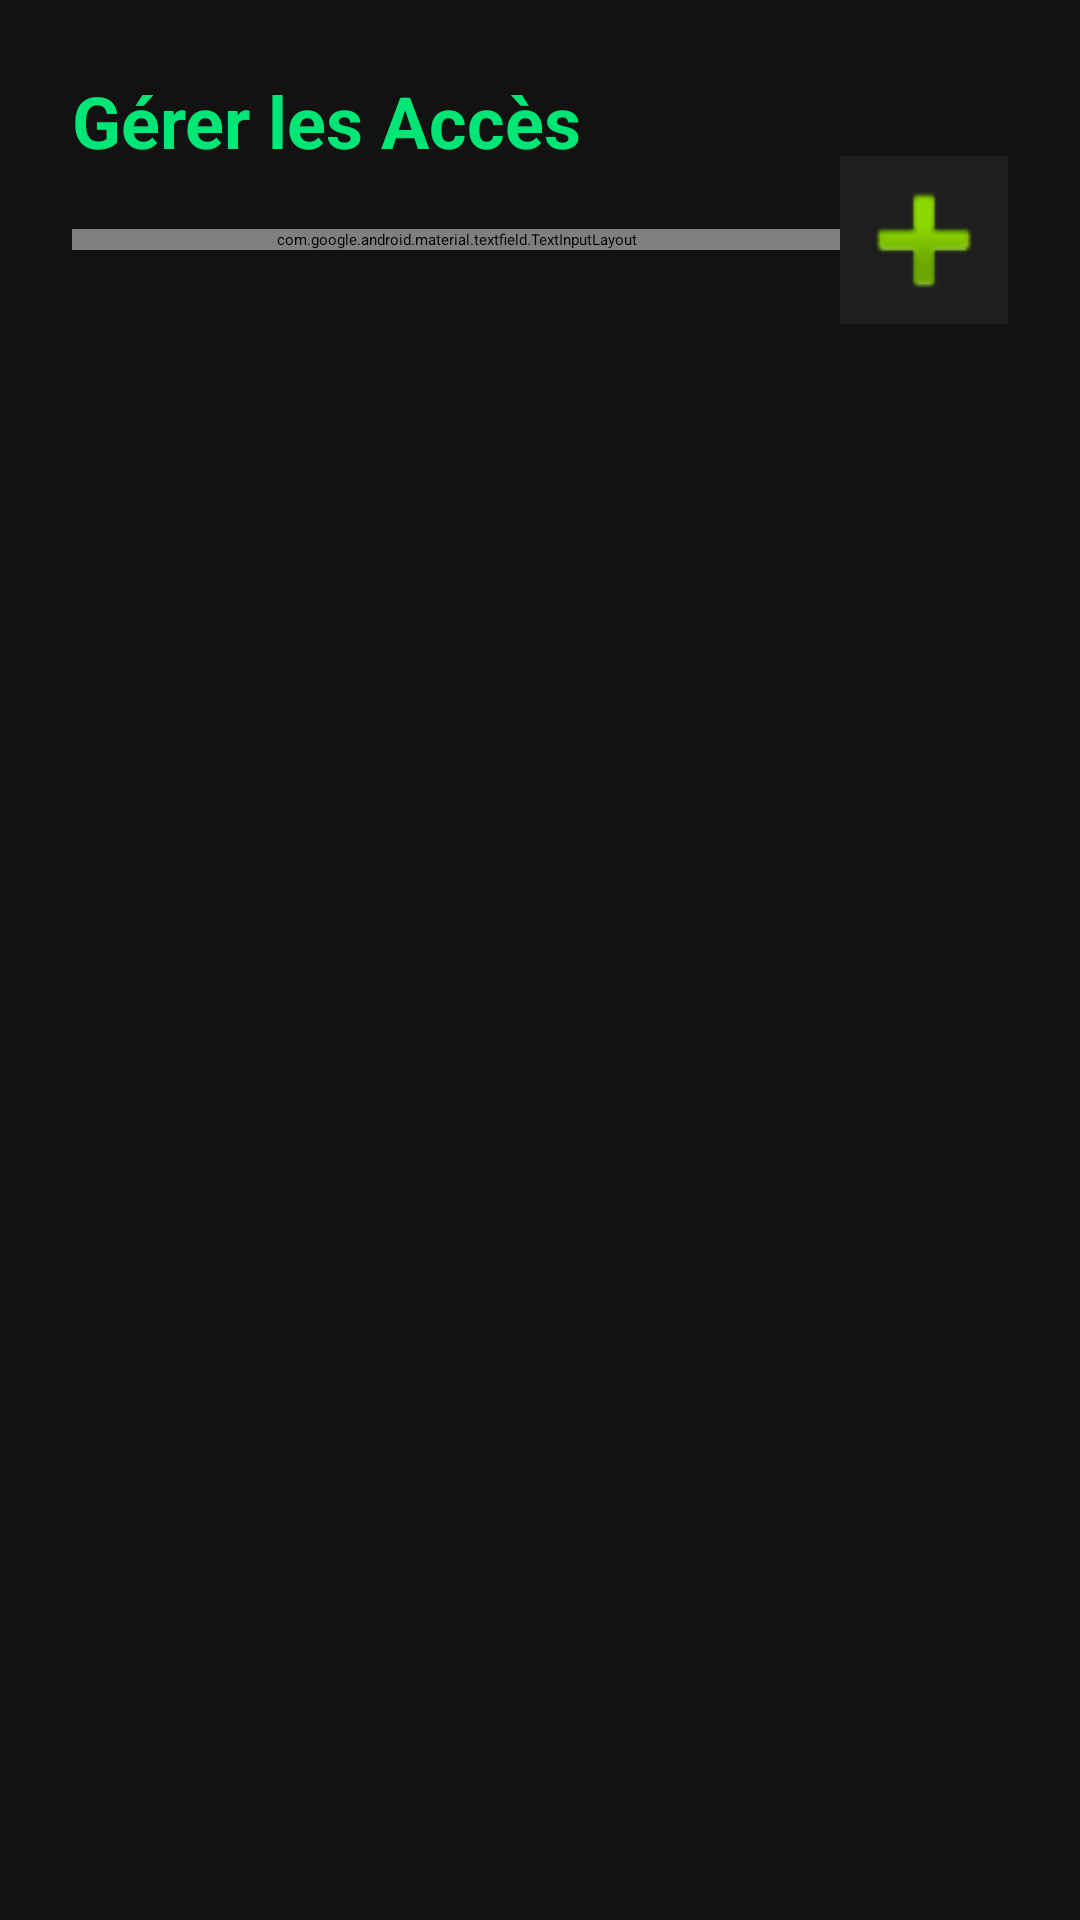

Icons on this 1080×1920 Android screen, each with the point to tap as (x=x, y=y):
add: (x=924, y=240)
